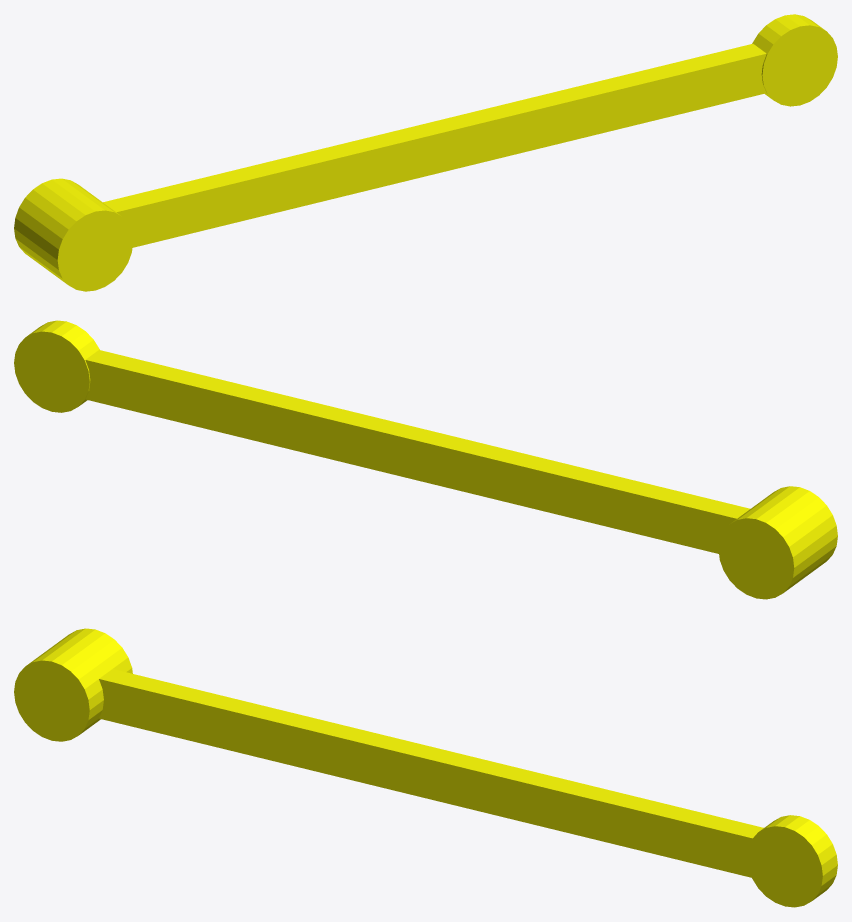
3 renders of one model, top to bottom at view 1: azimuth 30°, elevation 25°; view 2: azimuth 150°, elevation 25°; view 3: azimuth 330°, elevation 25°, orthographic.
Parts seen in each view (by area): view 1: node; view 2: node; view 3: node.
Boxes of the visible parts, x1,y1,x2,y2 form: node: [14, 14, 837, 291]; node: [14, 320, 837, 599]; node: [14, 628, 837, 907].
Bounding box in the file's own units: 1050 × 100 × 100.
